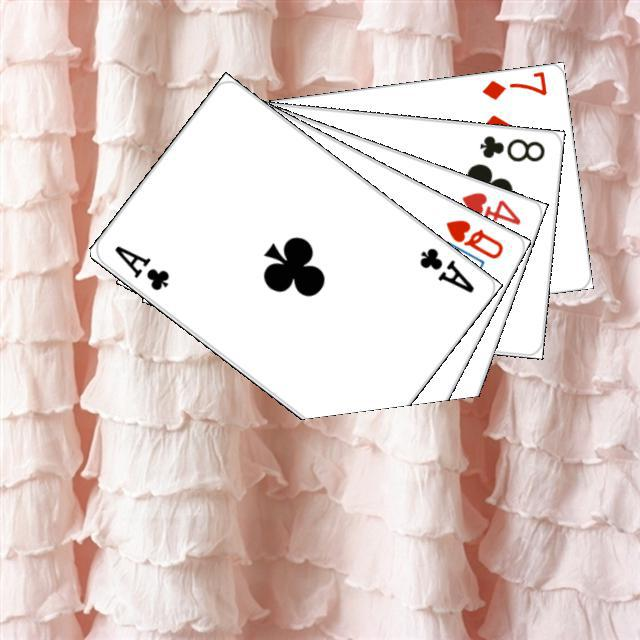4h: (456, 187, 523, 227)
7d: (477, 68, 549, 101)
8c: (474, 131, 546, 164)
Ac: (109, 240, 172, 293), (414, 242, 476, 295)
Qh: (440, 214, 506, 261)
